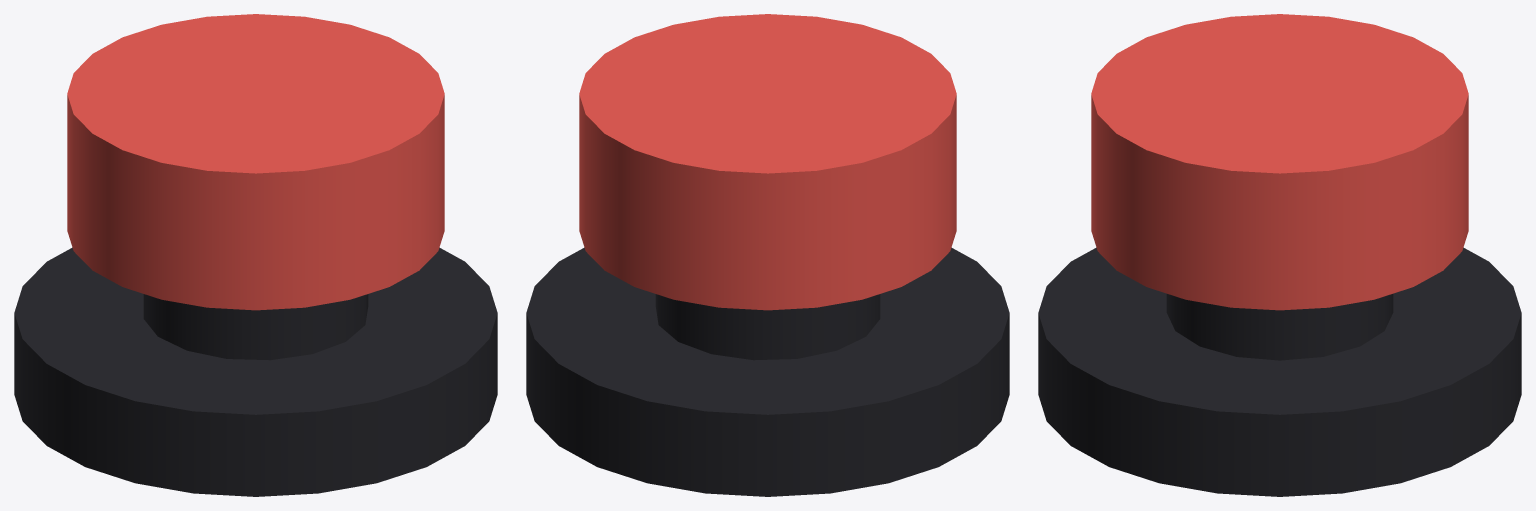
The model's file is estop_button.fbx.
The picture shows the model from 3 angles, left to right: view 1: azimuth 30°, elevation 25°; view 2: azimuth 150°, elevation 25°; view 3: azimuth 270°, elevation 25°; orthographic projection.
Parts seen in each view (by area): view 1: estop_button; view 2: estop_button; view 3: estop_button.
Part boxes in pixels (bbox=[...]): estop_button: bbox=[14, 14, 497, 496]; estop_button: bbox=[526, 14, 1009, 496]; estop_button: bbox=[1038, 14, 1521, 496].
Bounding box in the file's own units: 0.032 × 0.022 × 0.032.
